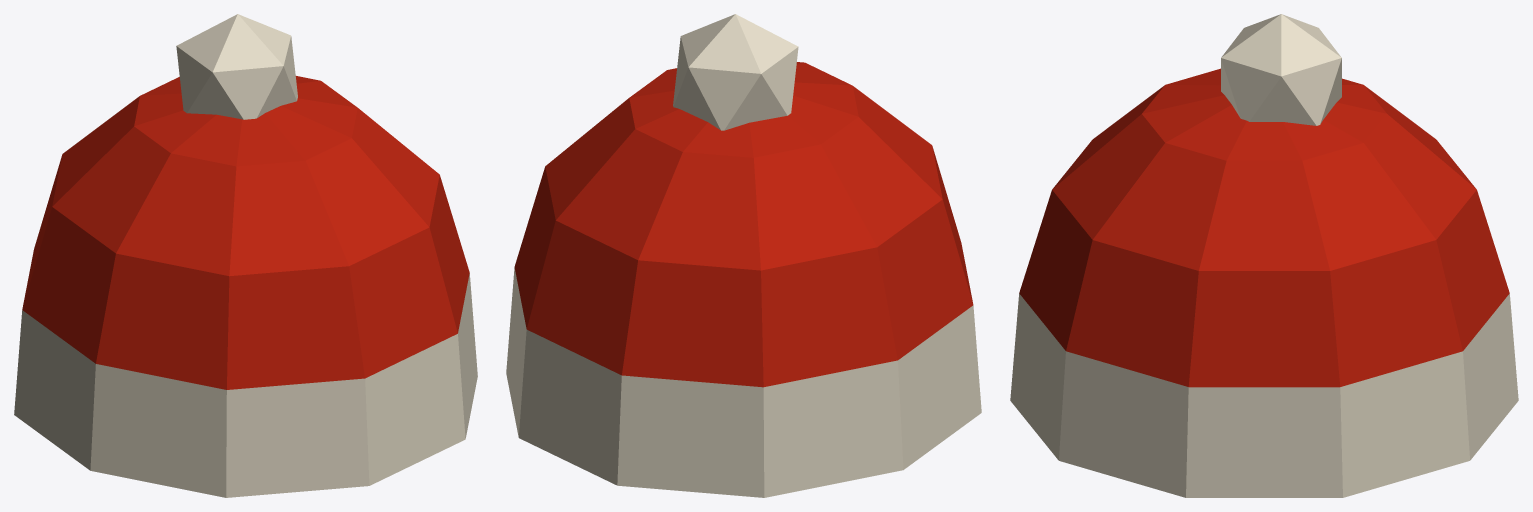
File: beanie.glb
3 renders of one model, left to right at view 1: azimuth 30°, elevation 25°; view 2: azimuth 150°, elevation 25°; view 3: azimuth 270°, elevation 25°, orthographic. The views are drawn at different scales.
Visible parts, largest first — view 1: beanie; view 2: beanie; view 3: beanie.
Boxes of the visible parts, x1,y1,x2,y2 form: beanie: (14, 14, 477, 497); beanie: (506, 14, 981, 497); beanie: (1010, 14, 1518, 497).
Size of the model in its own units: 0.272 by 0.252 by 0.3003.
Materials: 1 (1 with a texture image).
